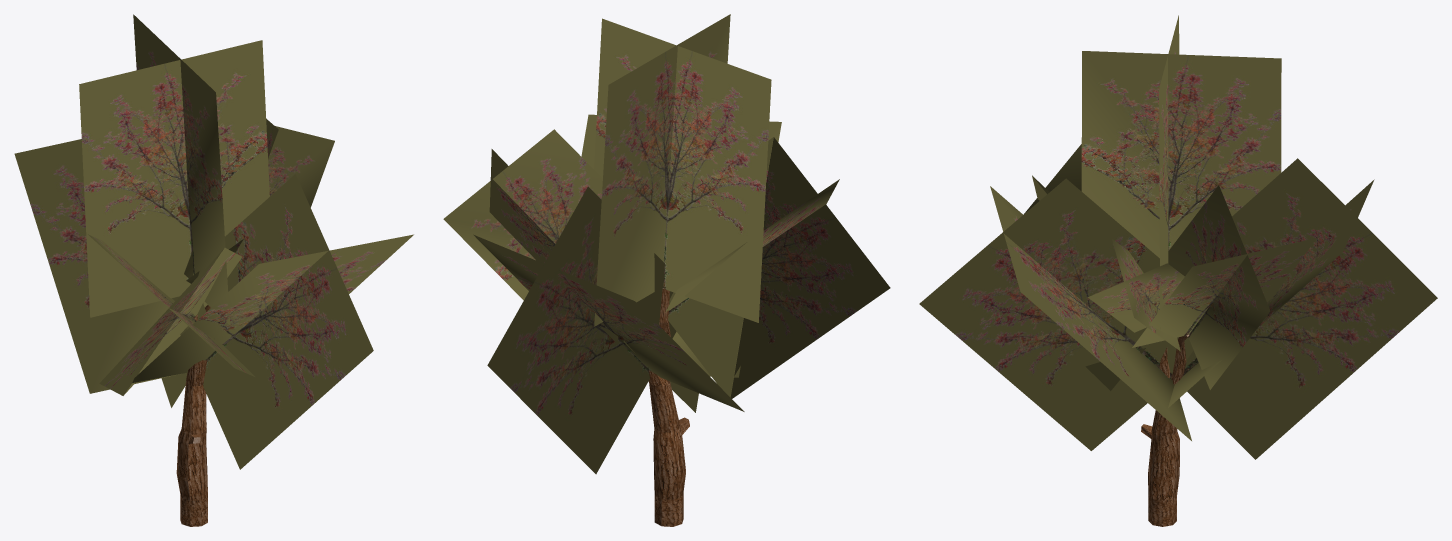
The model's file is tree.obj.
The picture shows the model from 3 angles, left to right: view 1: azimuth 30°, elevation 25°; view 2: azimuth 150°, elevation 25°; view 3: azimuth 270°, elevation 25°; orthographic projection. The views are drawn at different scales.
Parts seen in each view (by area): view 1: mat_tree1_1; view 2: mat_tree1_1; view 3: mat_tree1_1.
Part boxes in pixels (x1,y1,x2,y2): mat_tree1_1: (14,14,413,526); mat_tree1_1: (443,14,890,526); mat_tree1_1: (919,15,1437,526).
Size of the model in its own units: 211 by 296 by 299.
1 material, 1 textured.
